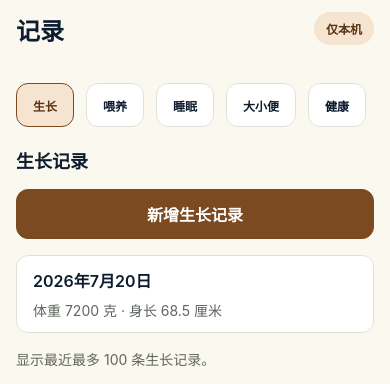
Test: a missing selected record returns to the list with the exact not-found message
Click the button with aria-label "生长记录，" at (92, 281), box [16,255,374,333]
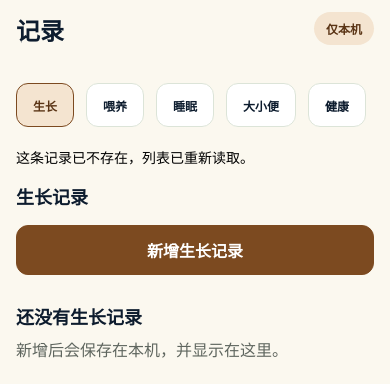
Expected: the heading "生长记录" is shown, [16,187,88,208]
Now the text "这条记录已不存在，列表已重新读取。" is shown, box [16,149,254,166]
